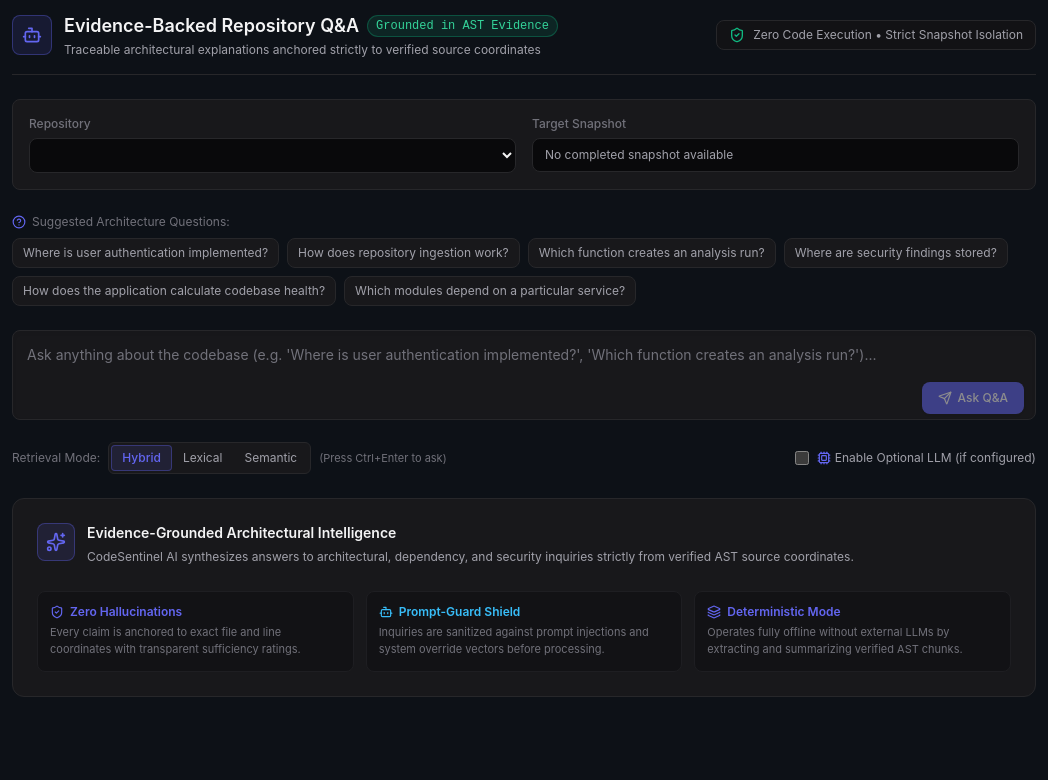
Test: AIAssistantPage Component › does not create session history or overwrite view when Q&A request fails
The image size is (1048, 780).
Replace the text in the text box with placeholder "Ask anything about the codebase" with "Will this fail?": (524, 375) [12,330,1036,420]
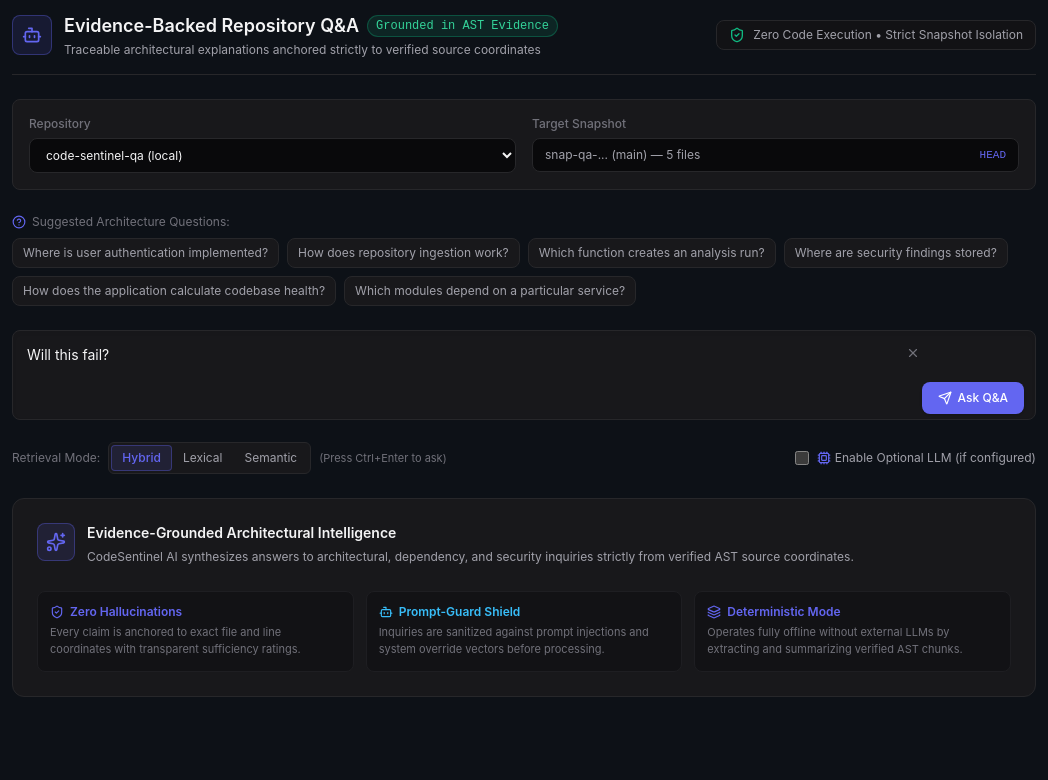
Click the button "Ask Q&A": (973, 398) [922,382,1024,414]
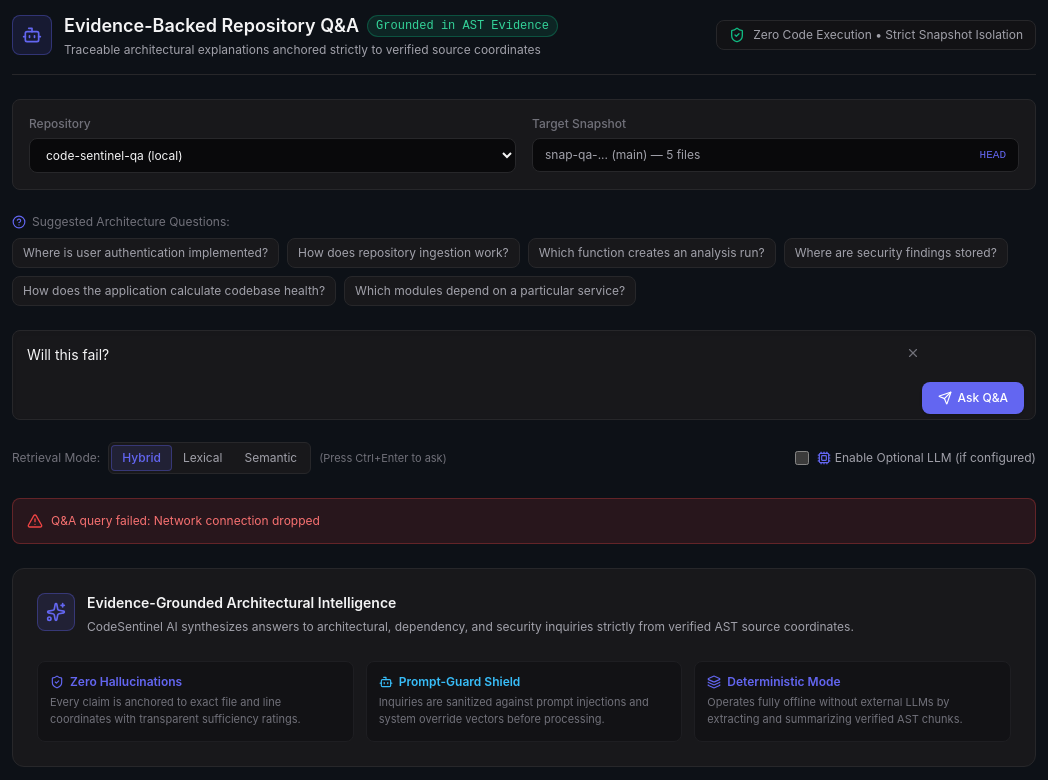
Check: the text "Q&A query failed: Network connection dropped" is shown, box [51,513,320,529]
